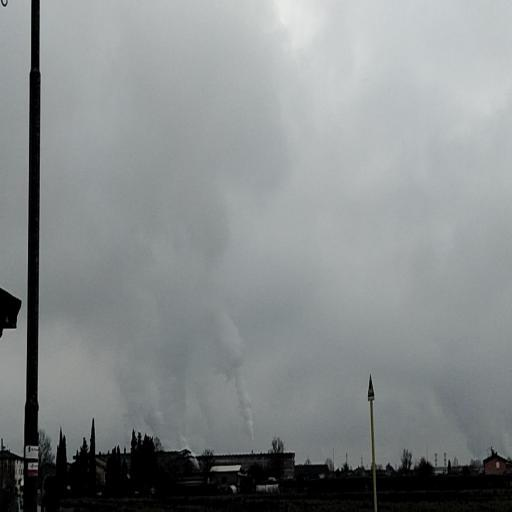leakage: (115, 262, 261, 468)
